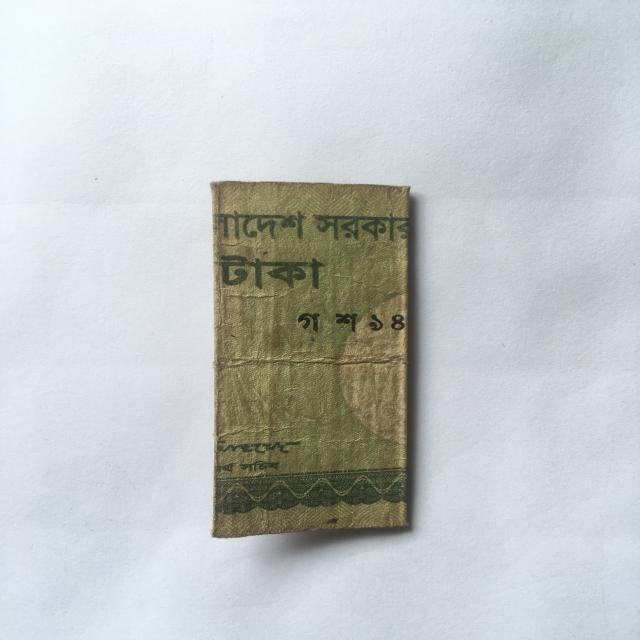Taka: (203, 170, 405, 536)
